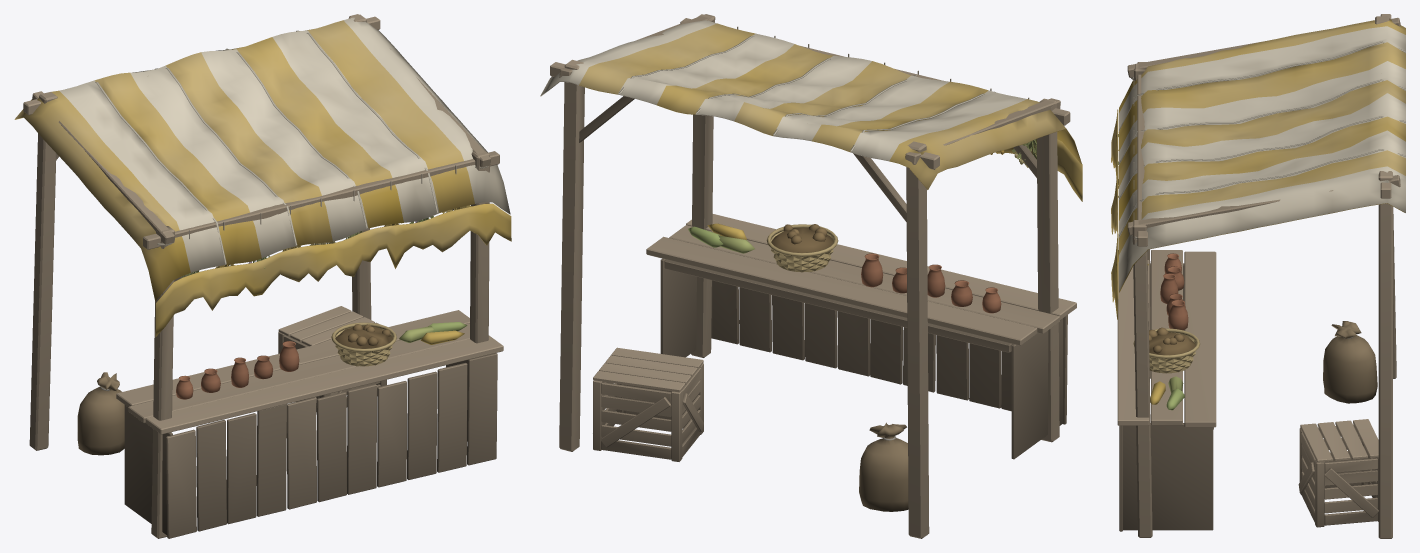
The model's file is stall_herbs.glb.
3 views of the same model, side by side, from view 1: azimuth 30°, elevation 25°; view 2: azimuth 150°, elevation 25°; view 3: azimuth 270°, elevation 25° (orthographic). The views are drawn at different scales.
Parts seen in each view (by area): view 1: stall_herbs_cloth, stall_herbs; view 2: stall_herbs, stall_herbs_cloth; view 3: stall_herbs_cloth, stall_herbs.
Part boxes in pixels (box(x1,y1,x2,y2)): stall_herbs_cloth: box(14, 17, 511, 336); stall_herbs: box(23, 14, 503, 538); stall_herbs: box(550, 14, 1076, 538); stall_herbs_cloth: box(540, 20, 1082, 201); stall_herbs_cloth: box(1111, 19, 1405, 319); stall_herbs: box(1117, 14, 1400, 538).
Size of what is drawn, in the model's own units: 2.92 by 2.8 by 2.06.
